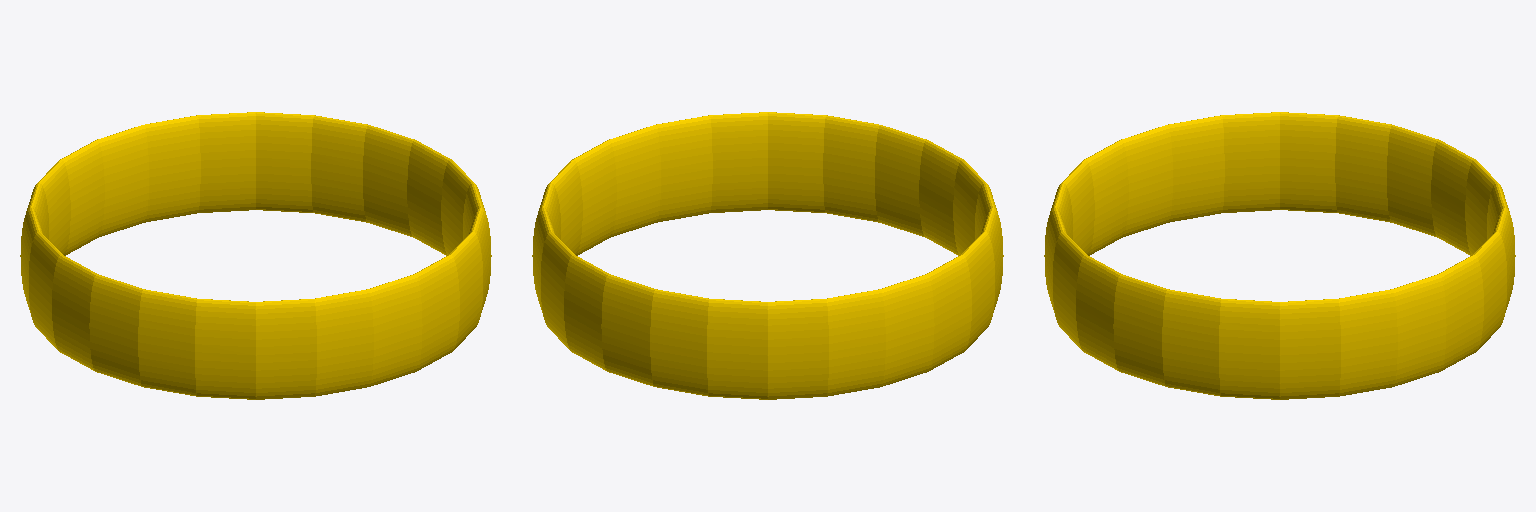
robot.urdf — block_9:
<?xml version="0.0" ?>
<robot name="block_9">
  <link name="baseLink">
    <contact>
      <lateral_friction value="1.0"/>
      <rolling_friction value="0.0"/>
      <contact_cfm value="0.0"/>
      <contact_erp value="1.0"/>
    </contact>
    <inertial>
      <origin rpy="0 0 0" xyz="0 0 0"/>
       <mass value="1.0"/>
       <inertia ixx="1" ixy="0" ixz="0" iyy="1" iyz="0" izz="1"/>
    </inertial>
    <visual>
      <origin rpy="0 0 0" xyz="0 0 0"/>
      <geometry>
        <mesh filename="block_9.obj" scale=".005 .005 .005"/>
      </geometry>
       <material name="gold">
        <color rgba="1 .84 0 1"/>
      </material>
    </visual>
    <collision>
      <origin rpy="0 0 0" xyz="0 0 0"/>
      <geometry>
        <mesh filename="block_9.obj" scale=".005 .005 .005"/>
      </geometry>
    </collision>
  </link>
</robot>

--- Facts derived from the render (not from the file) ---
3 views of the same robot in one strip: view 1: azimuth 30°, elevation 25°; view 2: azimuth 150°, elevation 25°; view 3: azimuth 270°, elevation 25° (orthographic).
Robot: block_9 — 1 links, 0 joints (none); root link baseLink; default pose: every joint at zero.
Visible links, largest first — view 1: baseLink; view 2: baseLink; view 3: baseLink.
Link boxes in pixels (box(x1,y1,x2,y2)): baseLink: box(20, 112, 491, 399); baseLink: box(532, 112, 1003, 399); baseLink: box(1044, 112, 1515, 399).
Bounding box of the posed robot: 0.109 × 0.109 × 0.025 m (x, y, z).
Meshes: 1 distinct files referenced, 1 mesh visuals loaded (1 OBJ).